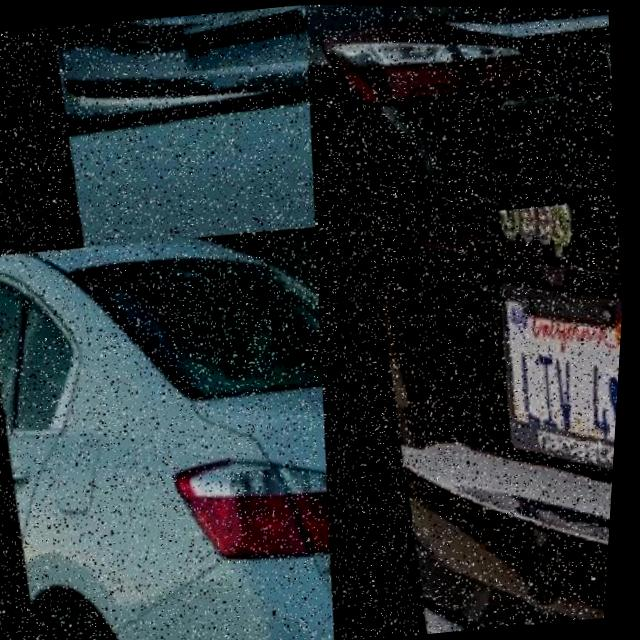LicensePlate: (476, 269, 628, 486), (181, 2, 311, 72)
